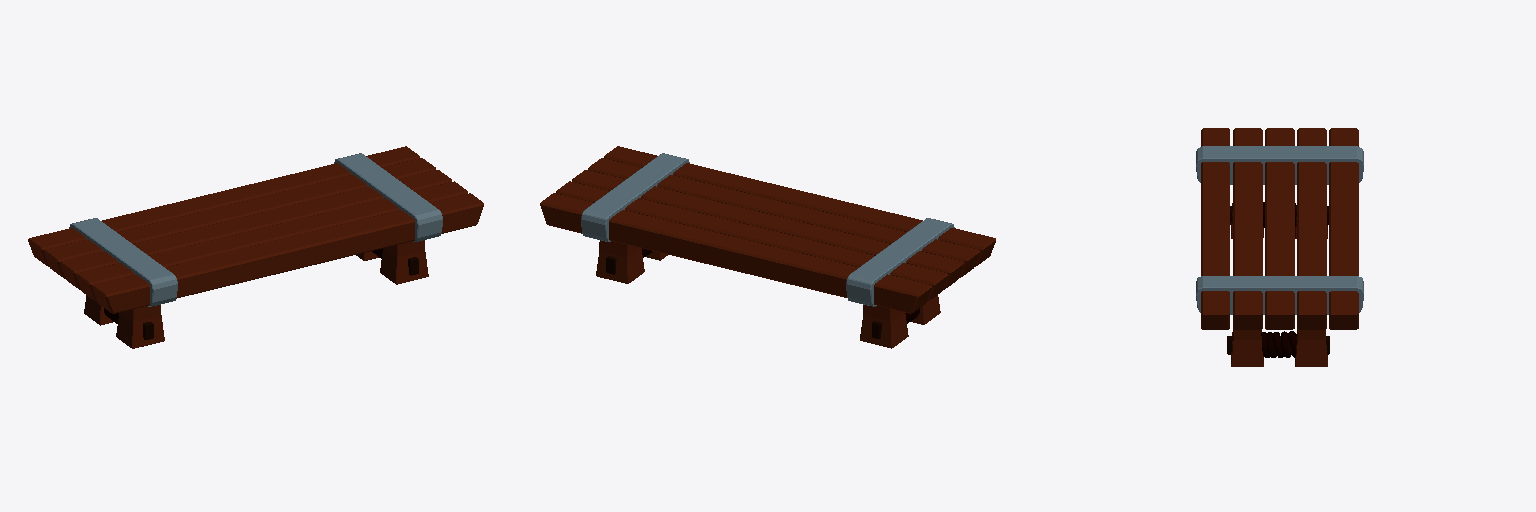
Rendered from table.obj.
3 views of the same model, side by side, from view 1: azimuth 30°, elevation 25°; view 2: azimuth 150°, elevation 25°; view 3: azimuth 270°, elevation 25° (orthographic).
Parts seen in each view (by area): view 1: table; view 2: table; view 3: table.
Part boxes in pixels (x1,y1,x2,y2): table: (28, 146, 483, 348); table: (540, 146, 995, 348); table: (1196, 128, 1363, 366).
Size of the model in its own units: 6.99 by 1.38 by 2.68.